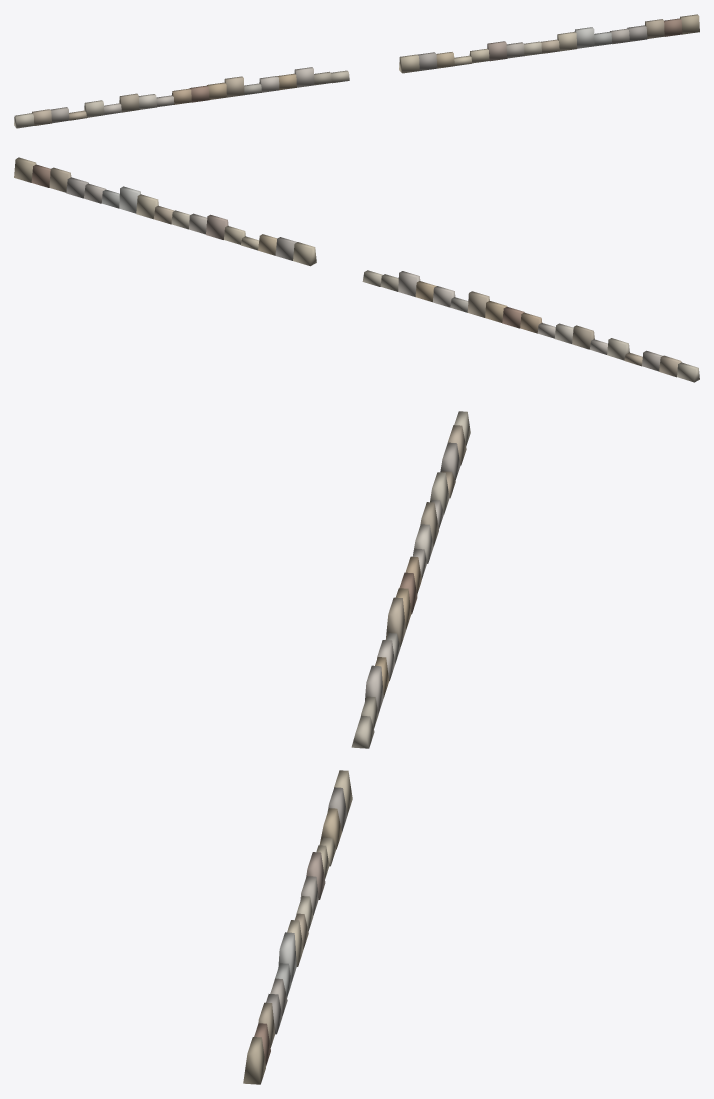
The model's file is farm_9_13_collision.glb.
The picture shows the model from 3 angles, top to bottom: view 1: azimuth 30°, elevation 25°; view 2: azimuth 150°, elevation 25°; view 3: azimuth 270°, elevation 25°; orthographic projection. The views are drawn at different scales.
Parts seen in each view (by area): view 1: geometry_0; view 2: geometry_0; view 3: geometry_0.
Part boxes in pixels (left/top/right/bottom): geometry_0: left=14, top=14, right=699, bottom=128; geometry_0: left=14, top=157, right=699, bottom=382; geometry_0: left=243, top=411, right=470, bottom=1084.
Size of the model in its own units: 60.48 by 2.82 by 9.45.
